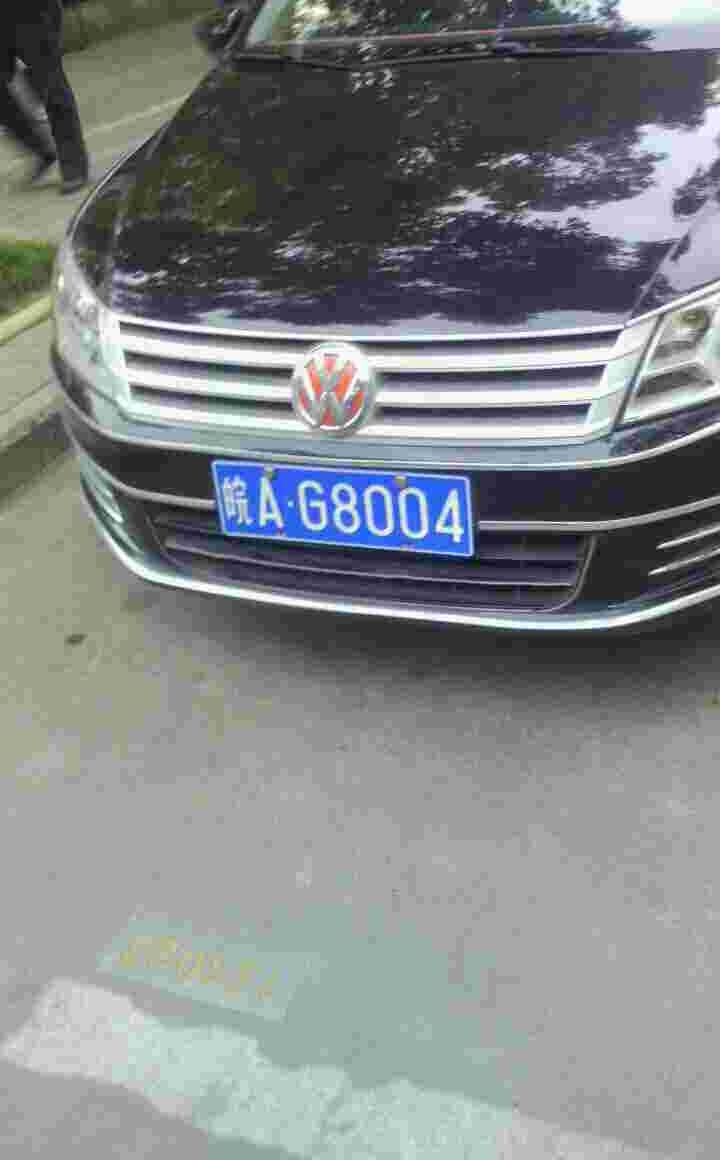license_plate: (216, 465, 470, 560)
